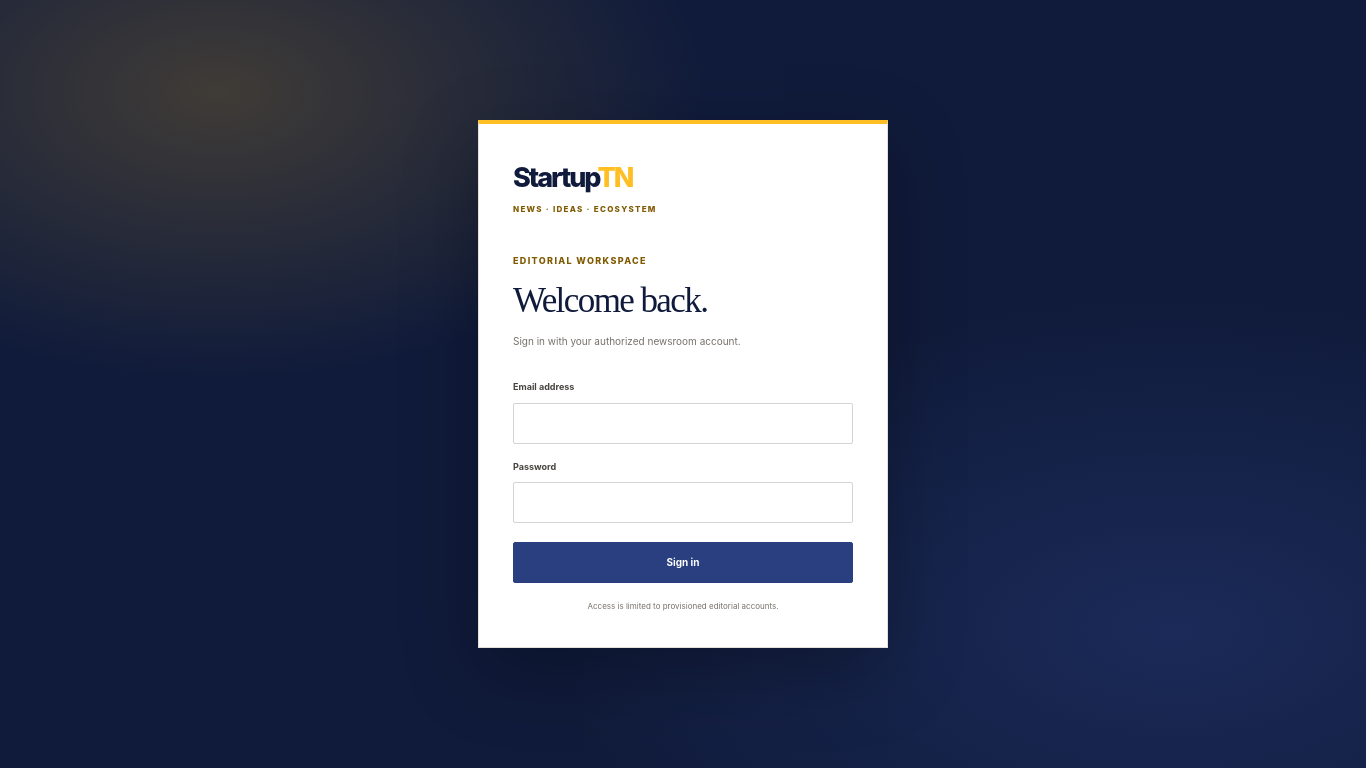
Scenario: admin CMS › shows invalid credentials without granting access
Type "editor@example.com" into the field labelled "Email address" at (683, 423), box x1=513 y1=403 x2=853 y2=444
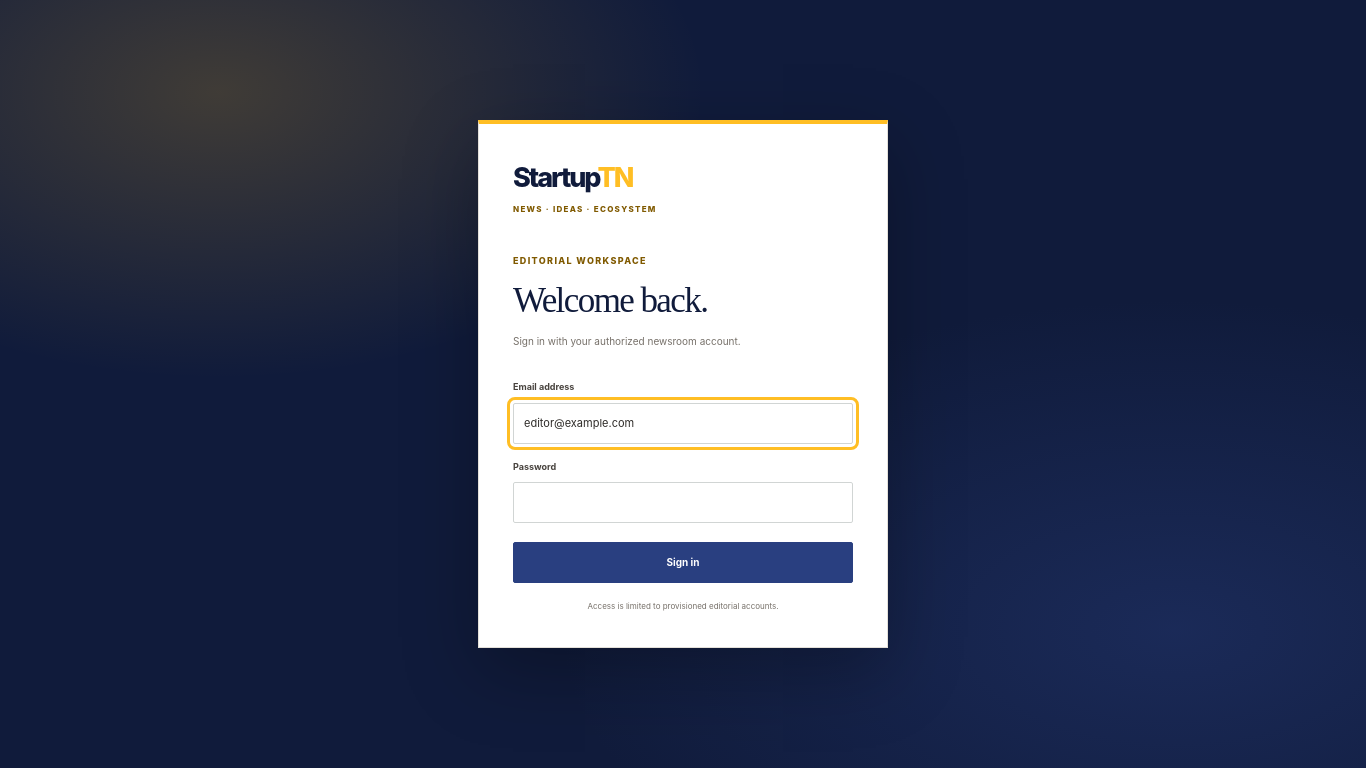
Type "wrong-password" into the password field labelled "Password" at (683, 503), box x1=513 y1=482 x2=853 y2=523
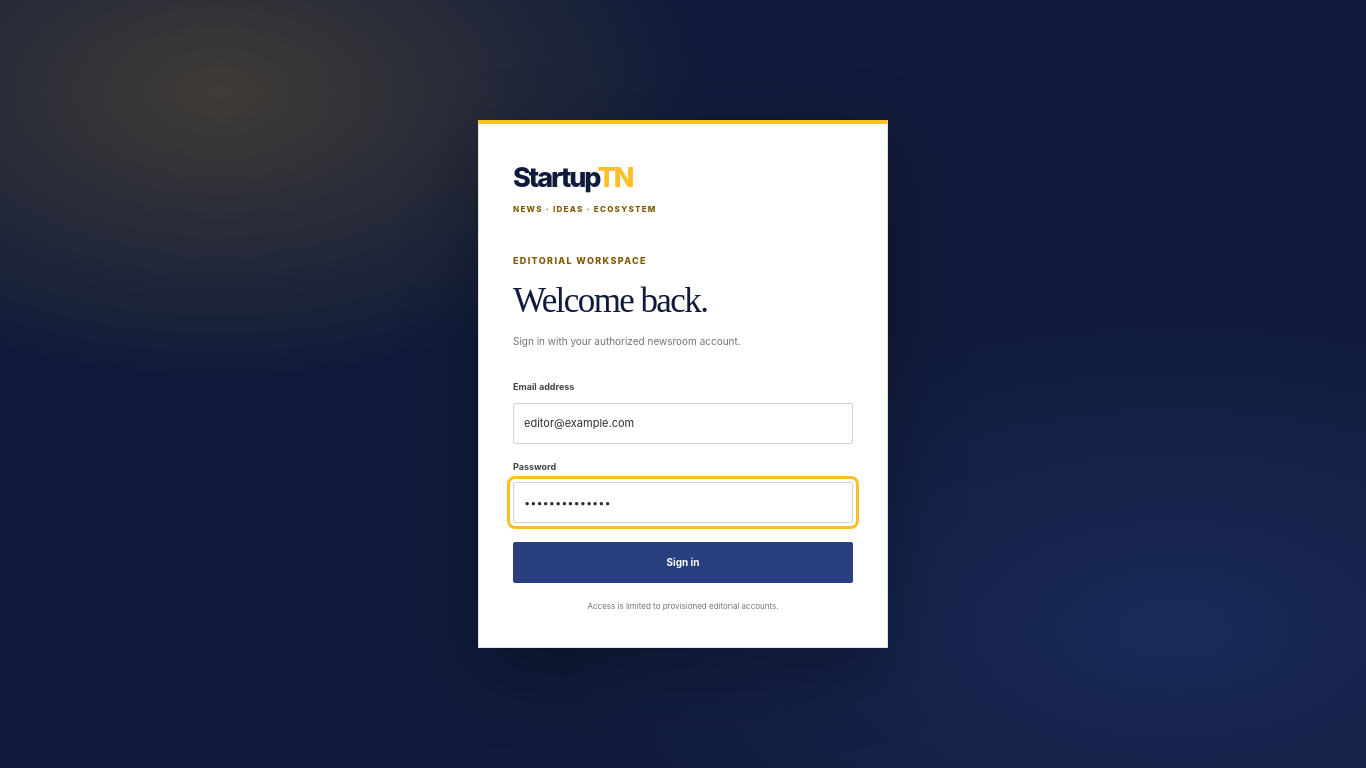
Click the button "Sign in" at (683, 563), box x1=513 y1=542 x2=853 y2=583
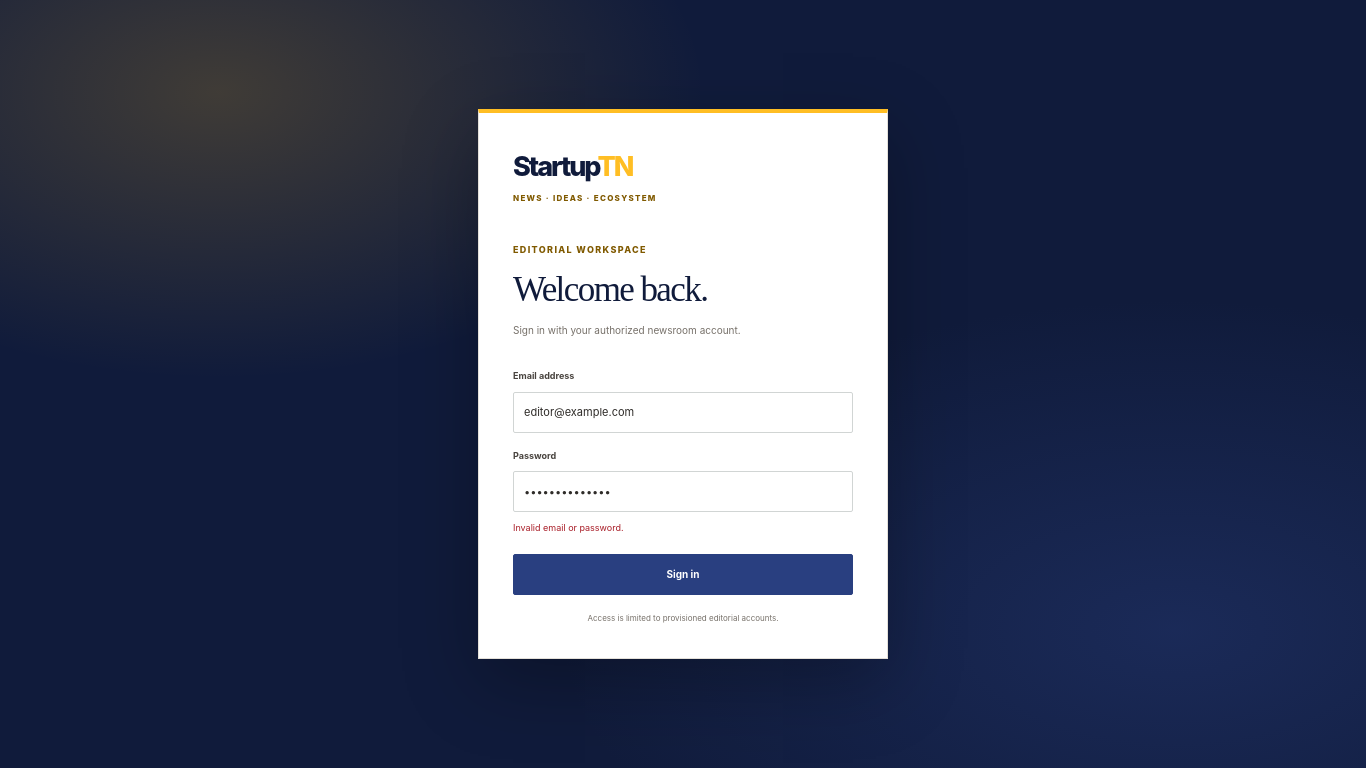
Now the message reads "Invalid email or password.", box x1=513 y1=522 x2=624 y2=533
